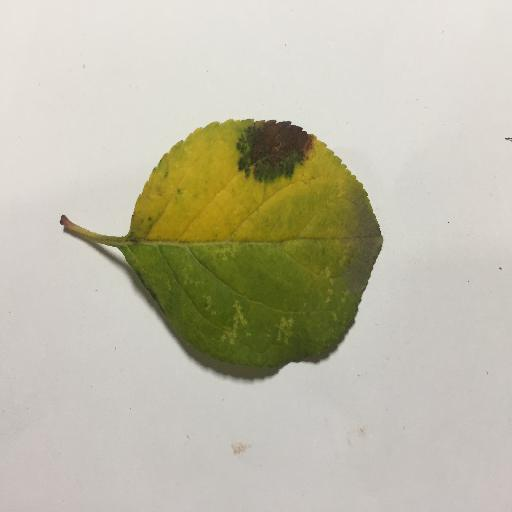Brown_Spot: (234, 120, 308, 173)
